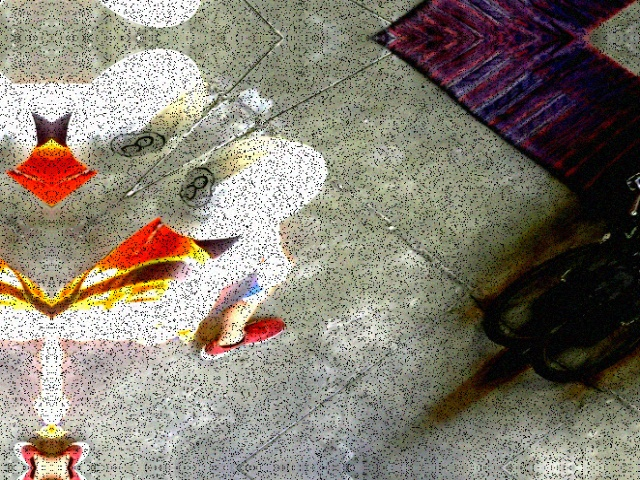eight: (165, 162, 231, 211)
